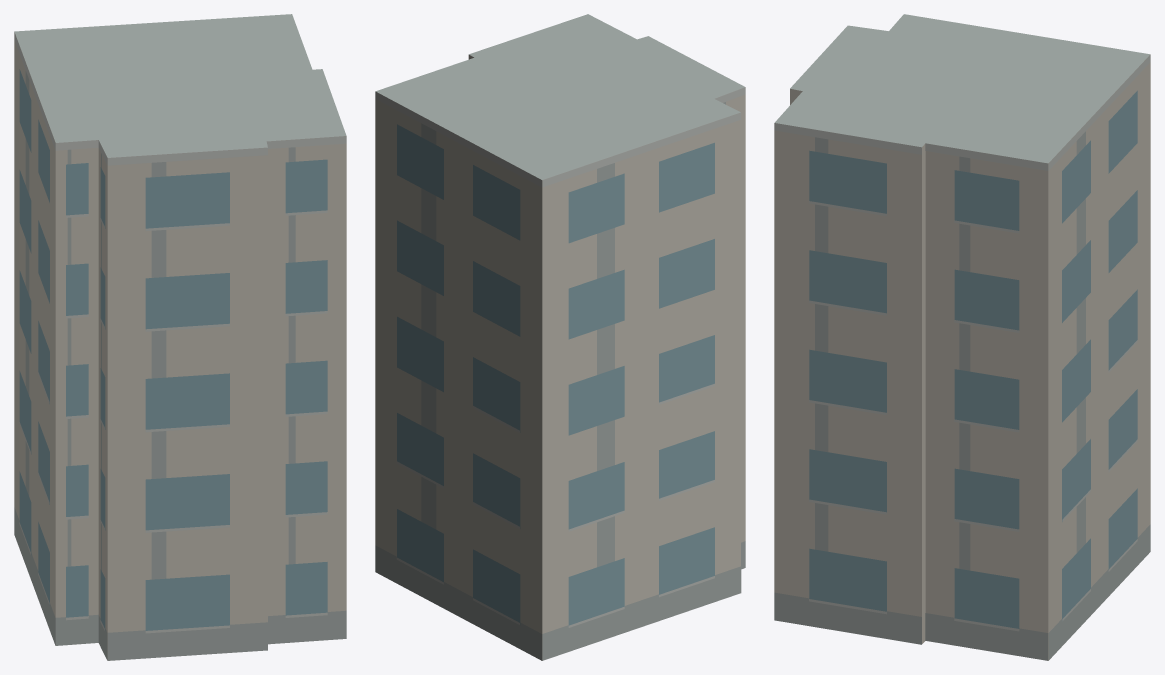
File: survey-upis-33007240.glb
3 renders of one model, left to right at view 1: azimuth 30°, elevation 25°; view 2: azimuth 150°, elevation 25°; view 3: azimuth 270°, elevation 25°, orthographic. The views are drawn at different scales.
Parts seen in each view (by area): view 1: survey-upis-33007240.tmp; view 2: survey-upis-33007240.tmp; view 3: survey-upis-33007240.tmp.
Part boxes in pixels (x1,y1,x2,y2): survey-upis-33007240.tmp: (14,14,346,660); survey-upis-33007240.tmp: (375,14,745,660); survey-upis-33007240.tmp: (774,14,1150,660).
Bounding box in the file's own units: 10.25 × 15.9 × 10.91.
